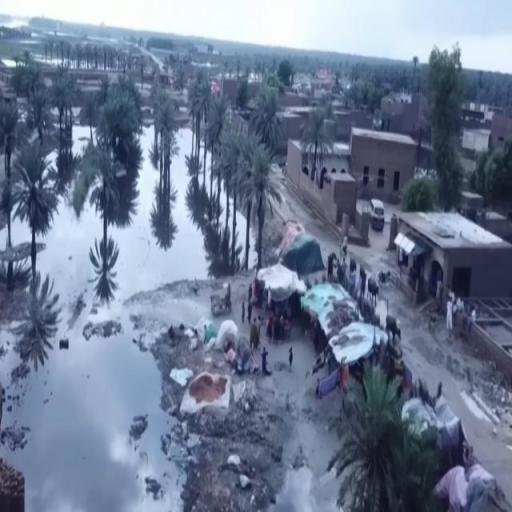flood: (0, 125, 235, 512)
house: (400, 212, 512, 297), (350, 124, 418, 226)
